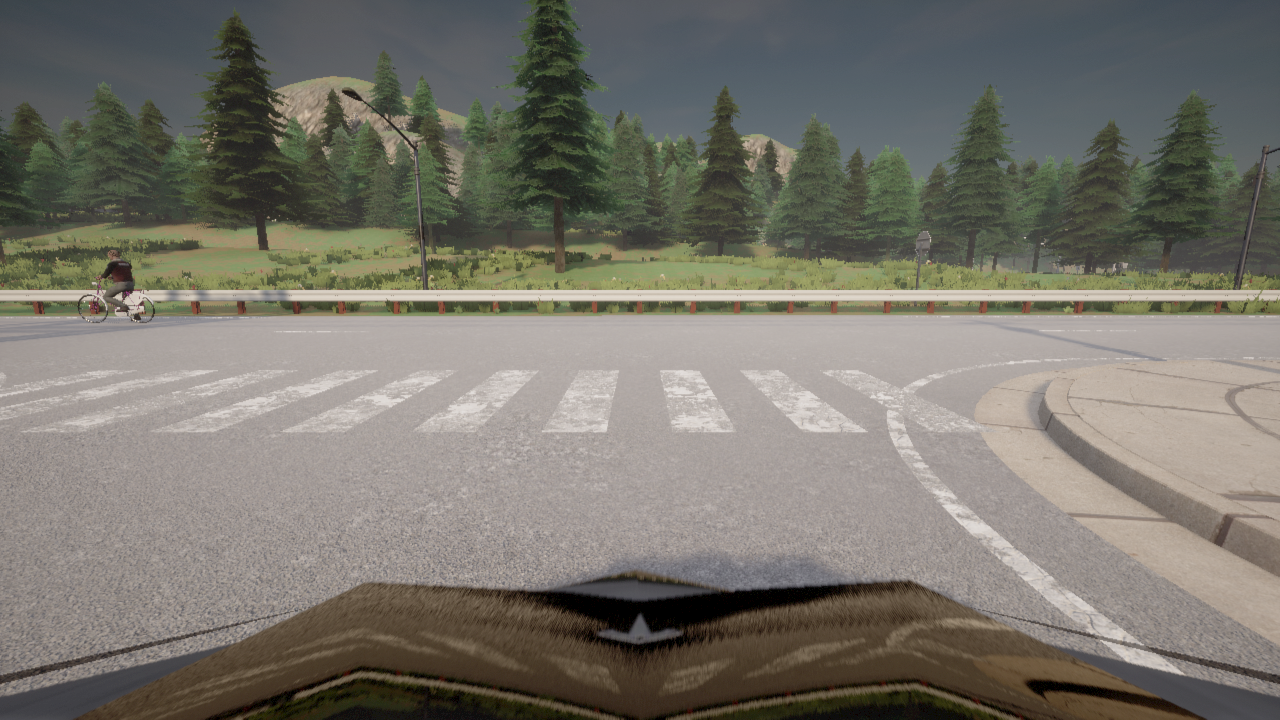cyclist: (0, 569, 1279, 719), (77, 277, 154, 323)
